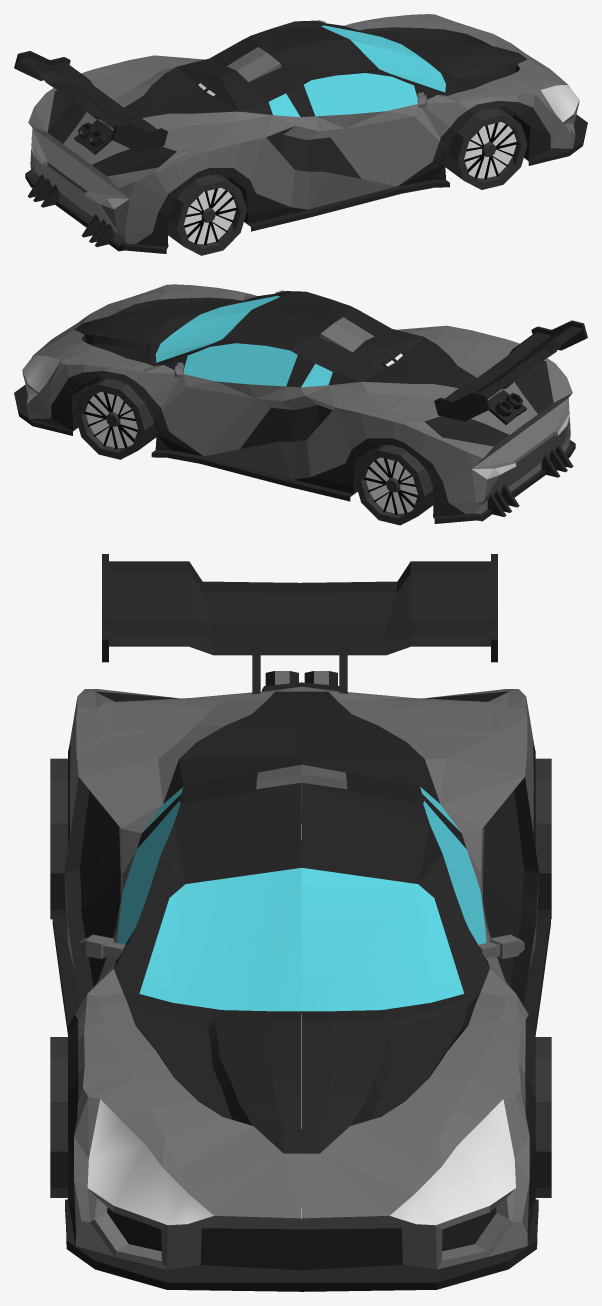
Rendered from car2.glb.
The picture shows the model from 3 angles, top to bottom: view 1: azimuth 30°, elevation 25°; view 2: azimuth 150°, elevation 25°; view 3: azimuth 270°, elevation 25°; orthographic projection. The views are drawn at different scales.
Visible parts, largest first — view 1: Car body, tire 2.001, tire 2, Spoiler; view 2: Car body, tire 1.001, tire 1, Spoiler; view 3: Car body, Spoiler, tire 2.001, tire 1.001, tire 2, tire 1.
Boxes of the visible parts, <box> form: Car body: <box>25,14,587,253</box>; tire 2.001: <box>445,107,527,189</box>; tire 2: <box>168,175,247,255</box>; Spoiler: <box>14,51,167,152</box>; Car body: <box>14,284,575,523</box>; tire 1.001: <box>74,378,156,459</box>; tire 1: <box>354,445,433,525</box>; Spoiler: <box>434,320,587,421</box>; Car body: <box>52,671,550,1291</box>; Spoiler: <box>102,554,497,694</box>; tire 2.001: <box>50,1037,67,1197</box>; tire 1.001: <box>535,1037,551,1197</box>; tire 2: <box>50,758,67,919</box>; tire 1: <box>535,758,551,919</box>.
Bounding box in the file's own units: 6.3 × 1.72 × 2.79.
